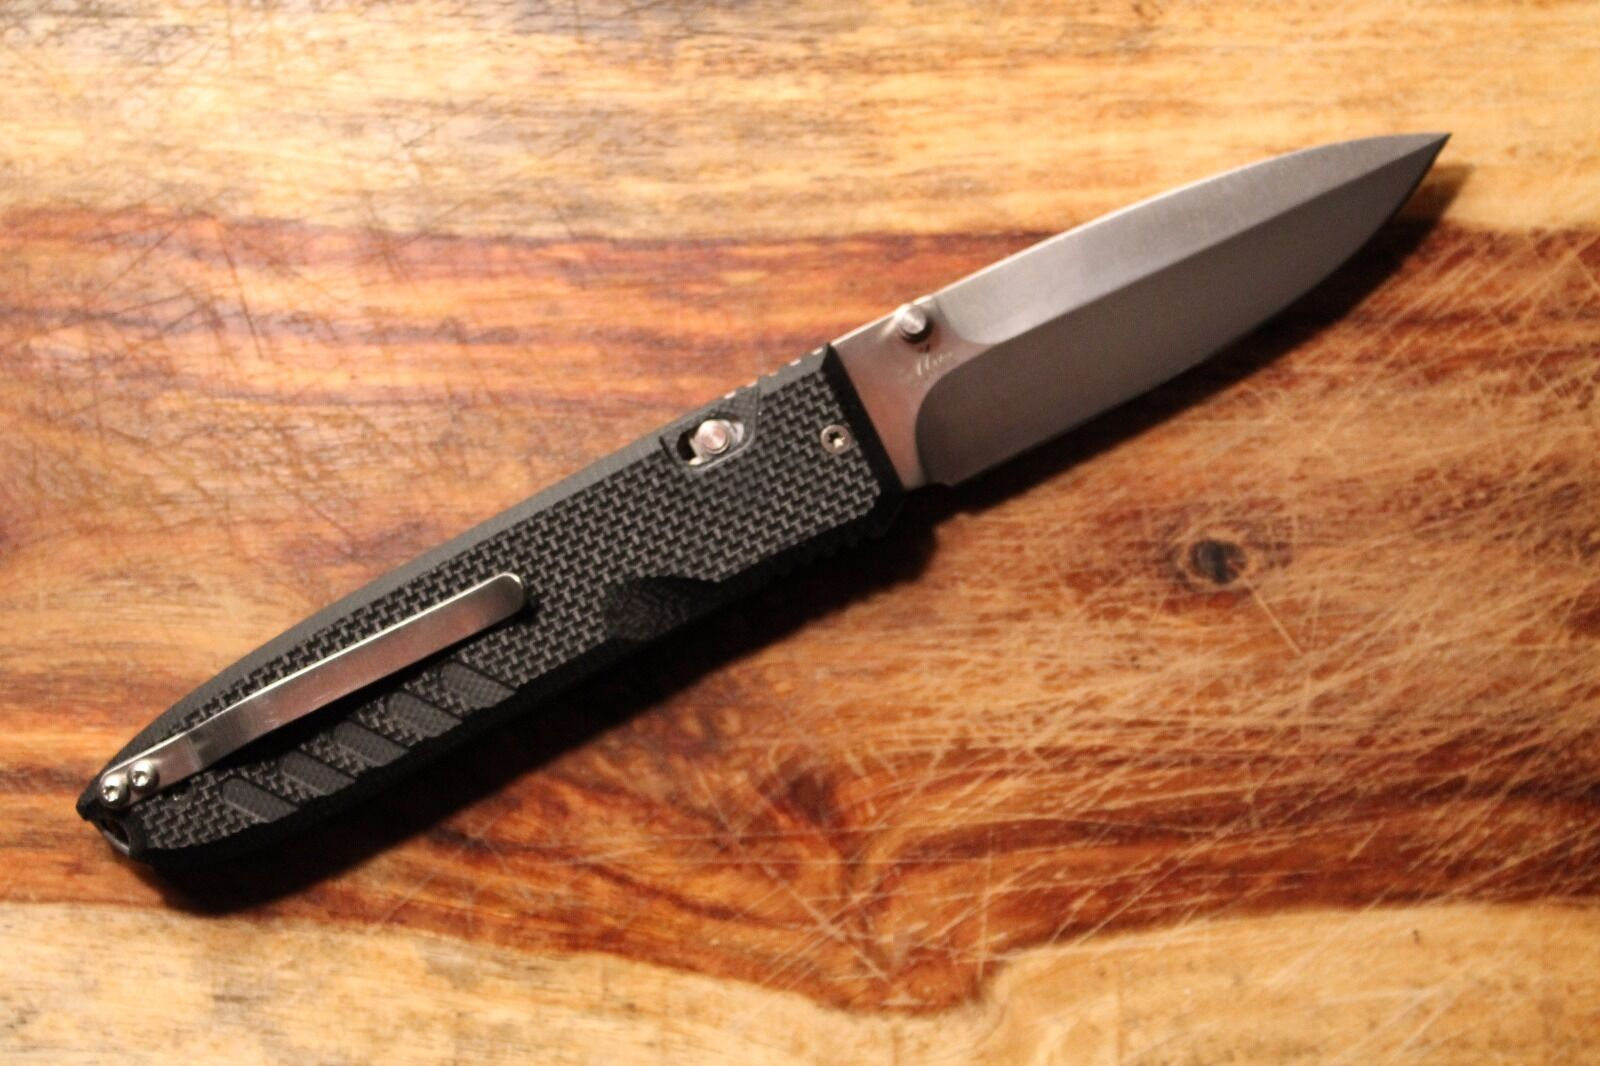knief: (54, 114, 1466, 817)
